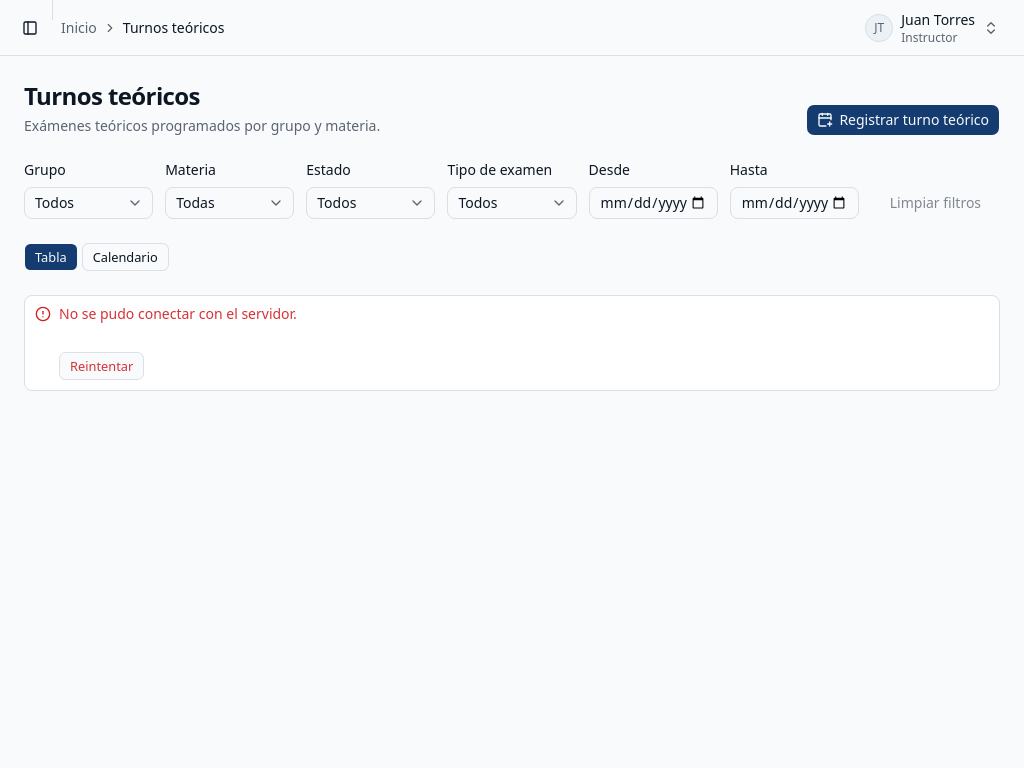
Scenario: Turnos teóricos › CA-TUT-13 un fallo en la primera carga de la lista ofrece Reintentar
The width and height of the screenshot is (1024, 768).
Expected: the text "No se pudo conectar con el servidor." is shown, [59,304,297,323]
Click the button "Reintentar": (102, 366) [59,352,144,380]
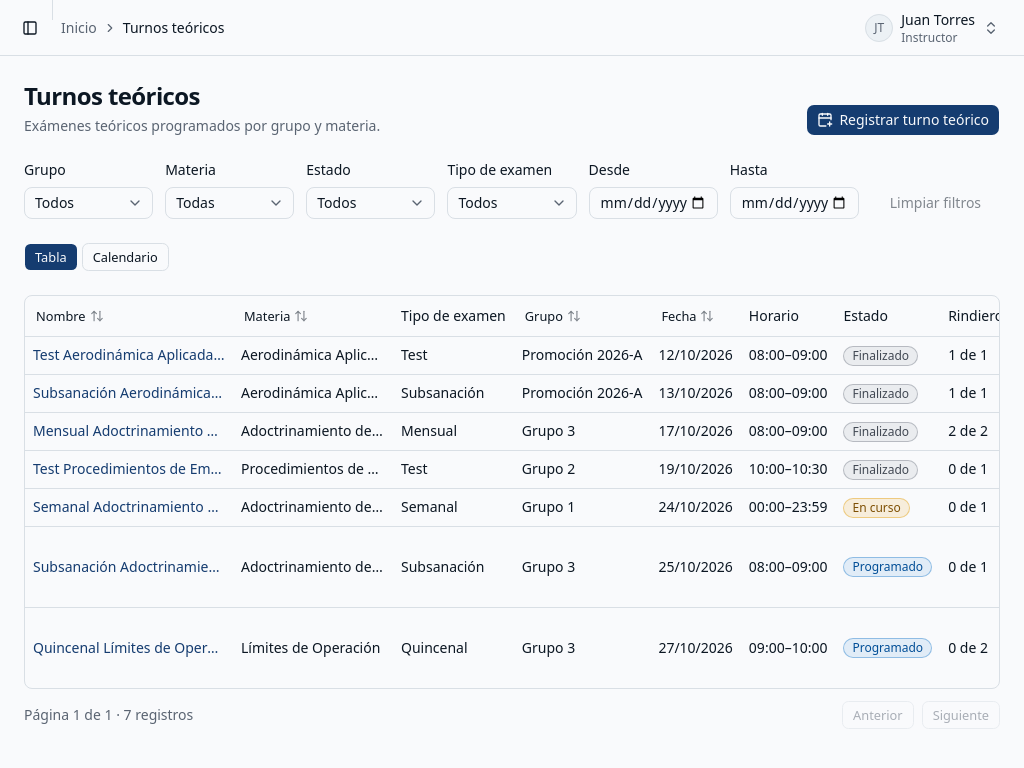
Result: the text "Página 1 de 1 · 7 registros" is shown at [24,705,193,725]
